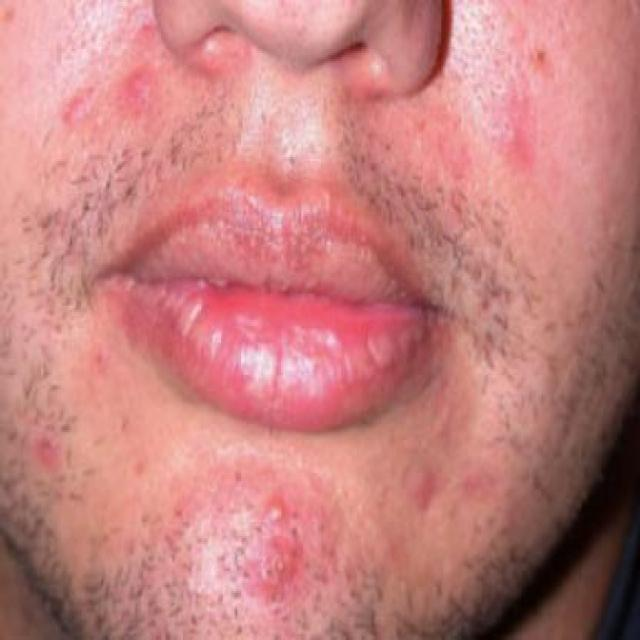nodules: (230, 536, 328, 607), (106, 35, 183, 120), (37, 69, 112, 143), (471, 114, 560, 171), (394, 460, 454, 518)
pustules: (245, 489, 308, 542)
